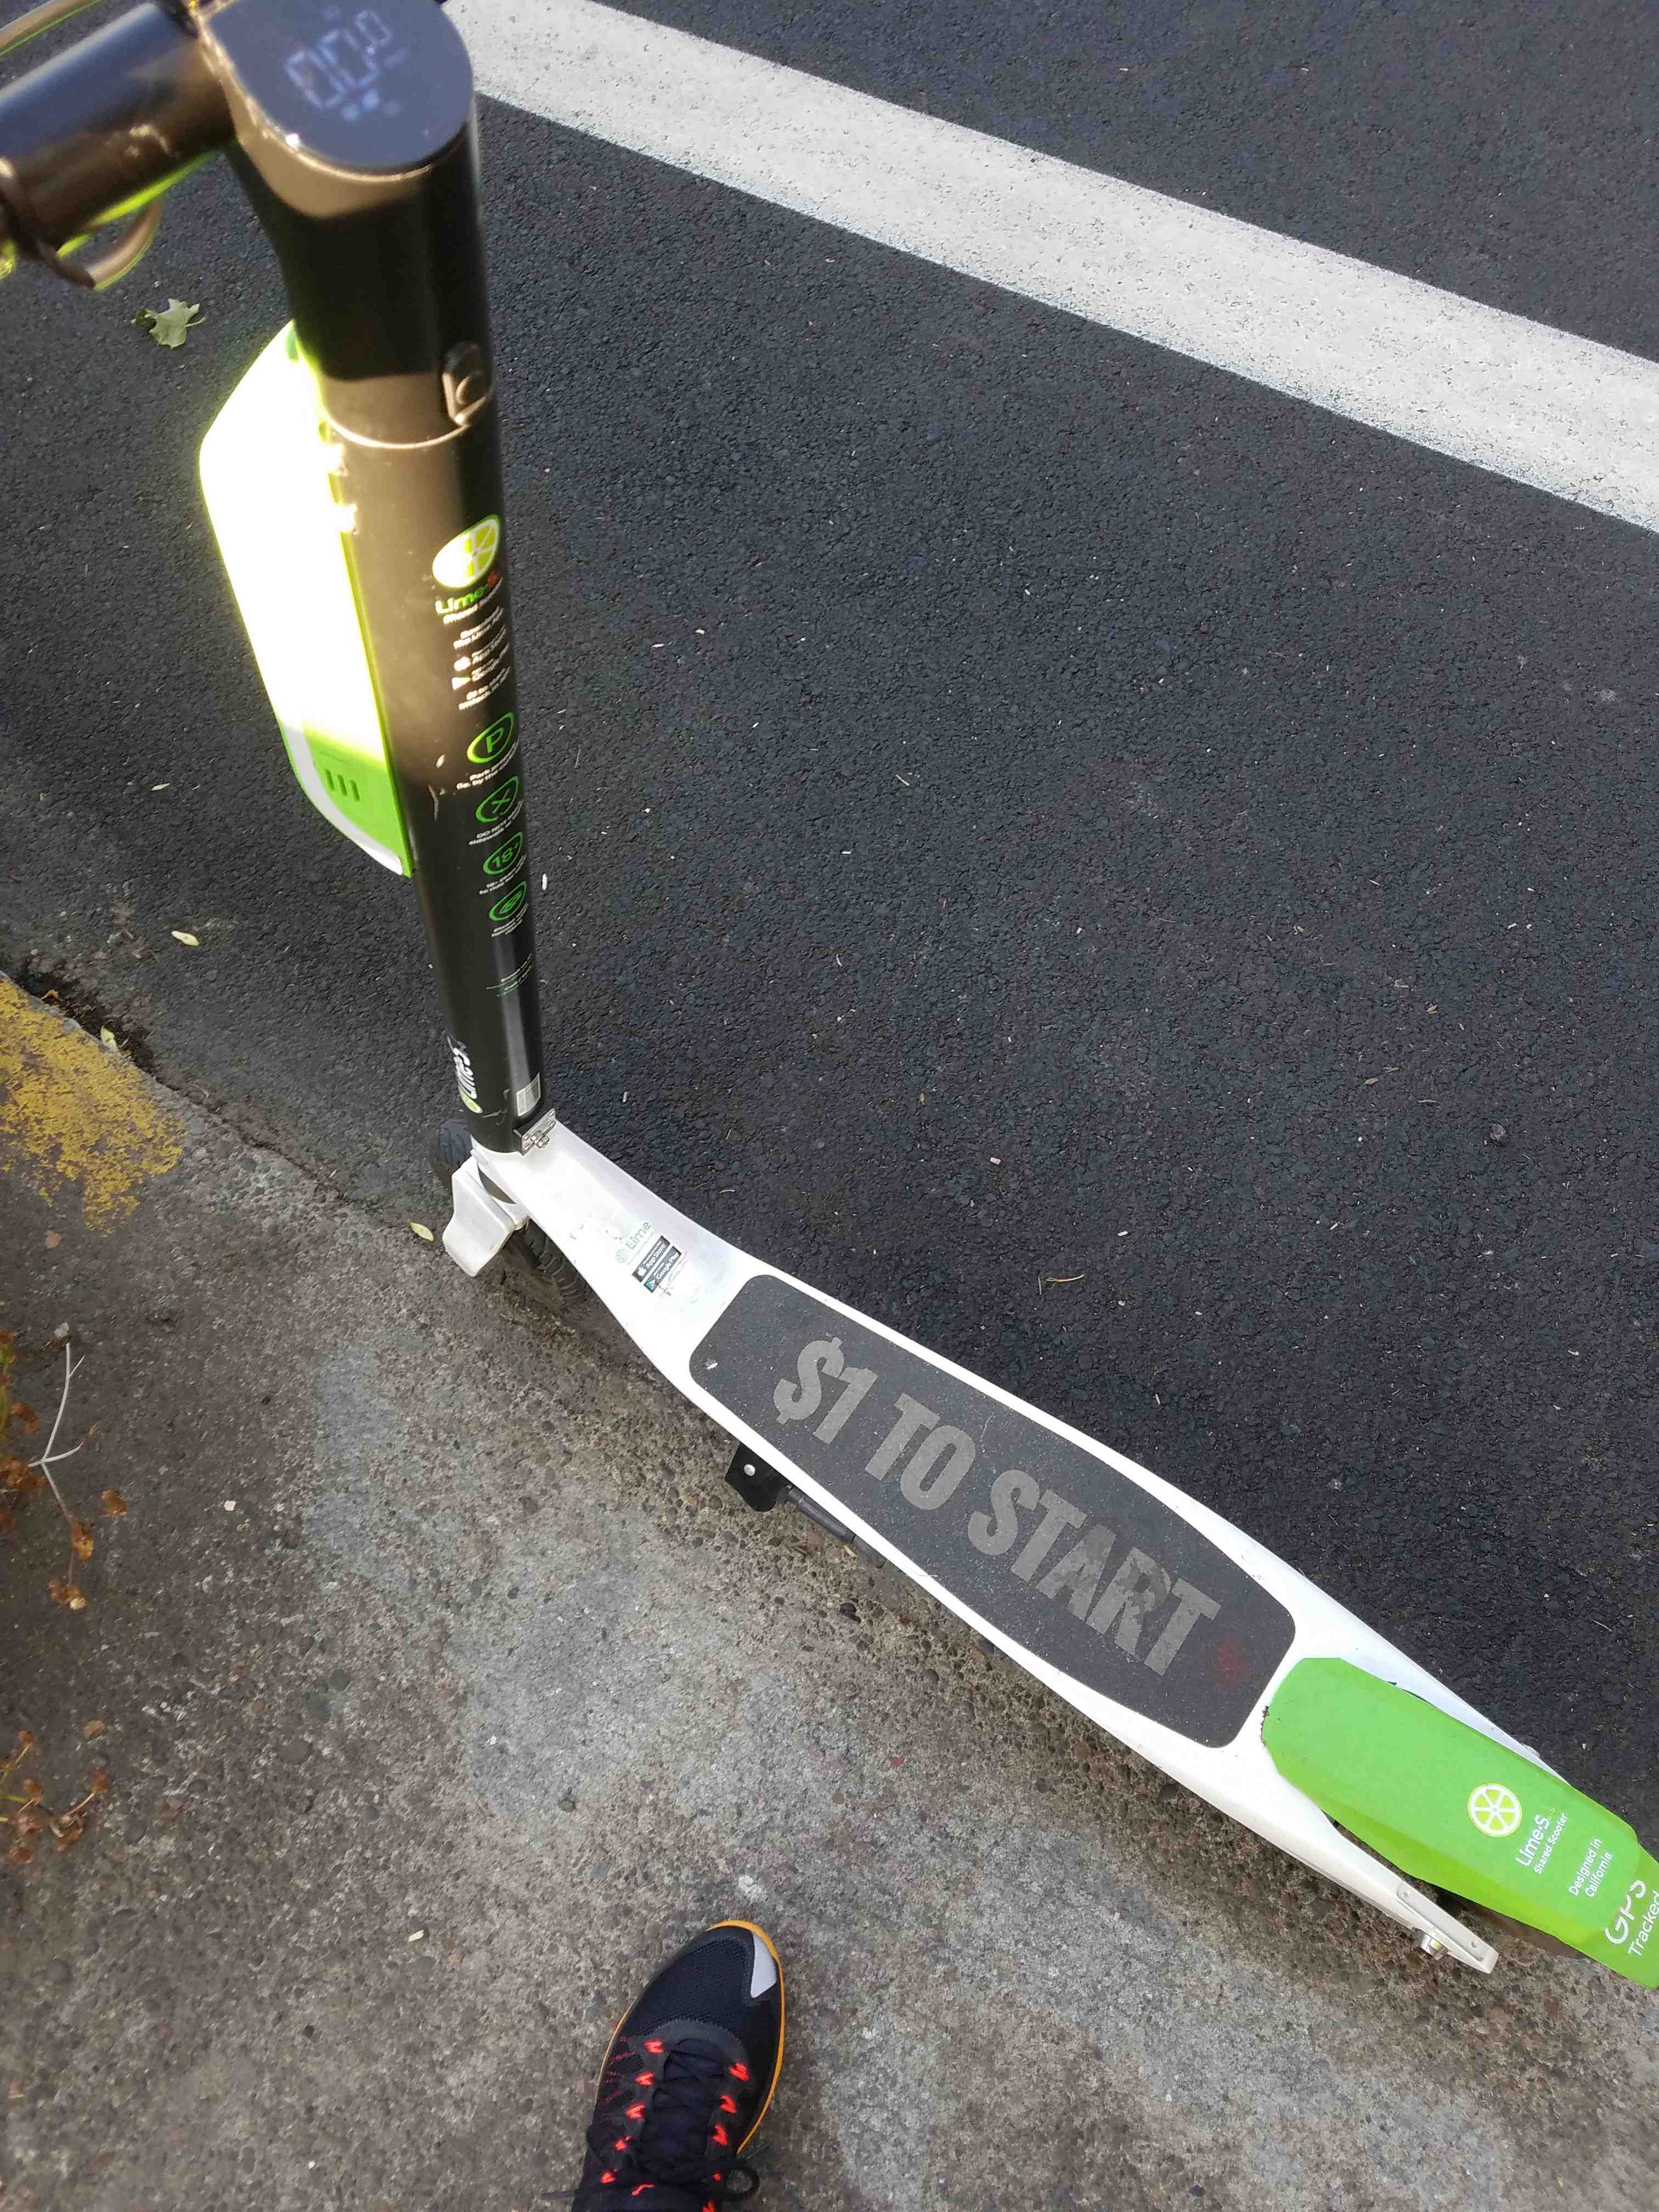scooter: (16, 0, 1657, 2062)
